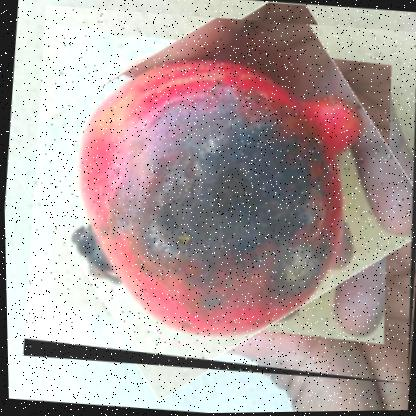pomegranate_rotten: (13, 0, 415, 389)
